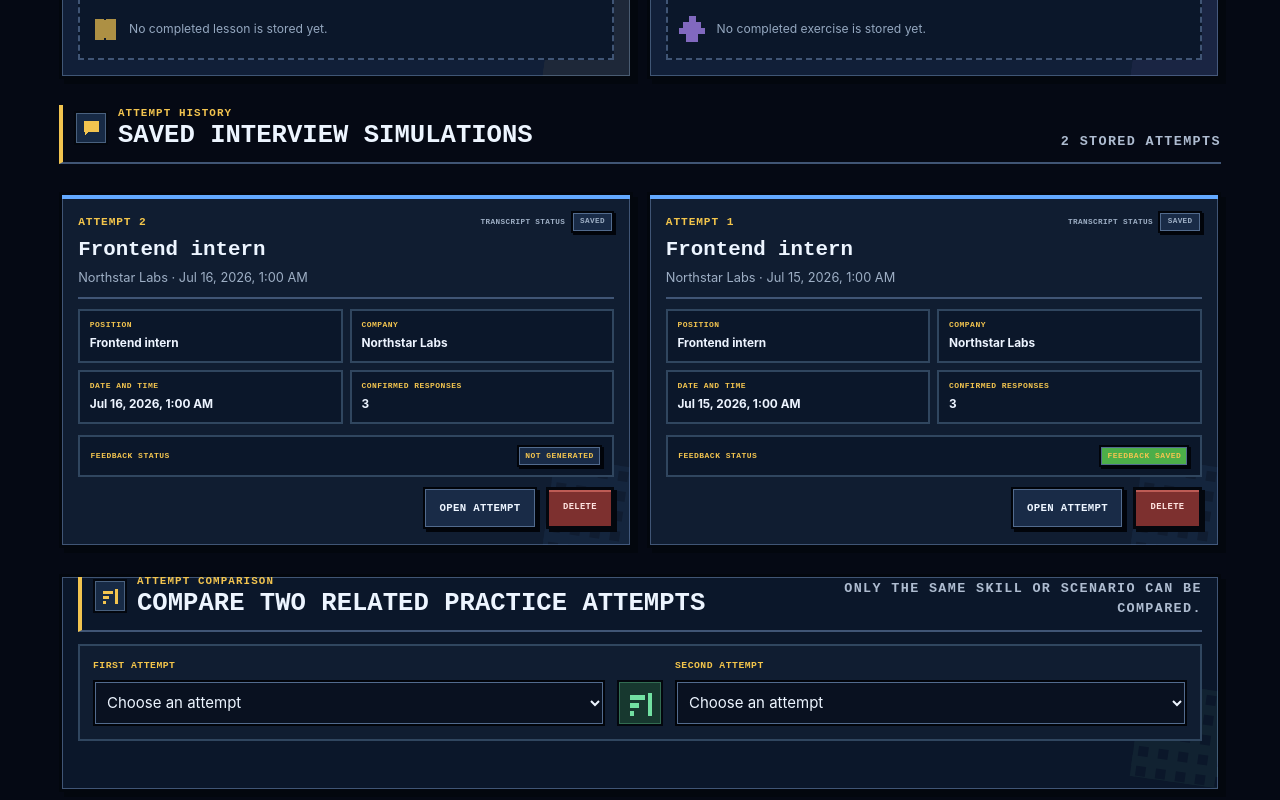
Test case: ProgressDashboard › shows an incompatible state instead of comparing an unevaluated attempt
(page scrolled)
Expected: the text "2 stored attempts" is shown, [1061, 132, 1221, 152]
Select "Frontend intern · Jul 15, 2026, 1:00 AM" in the dropdown labelled "First attempt": [349, 703] box [93, 680, 605, 726]
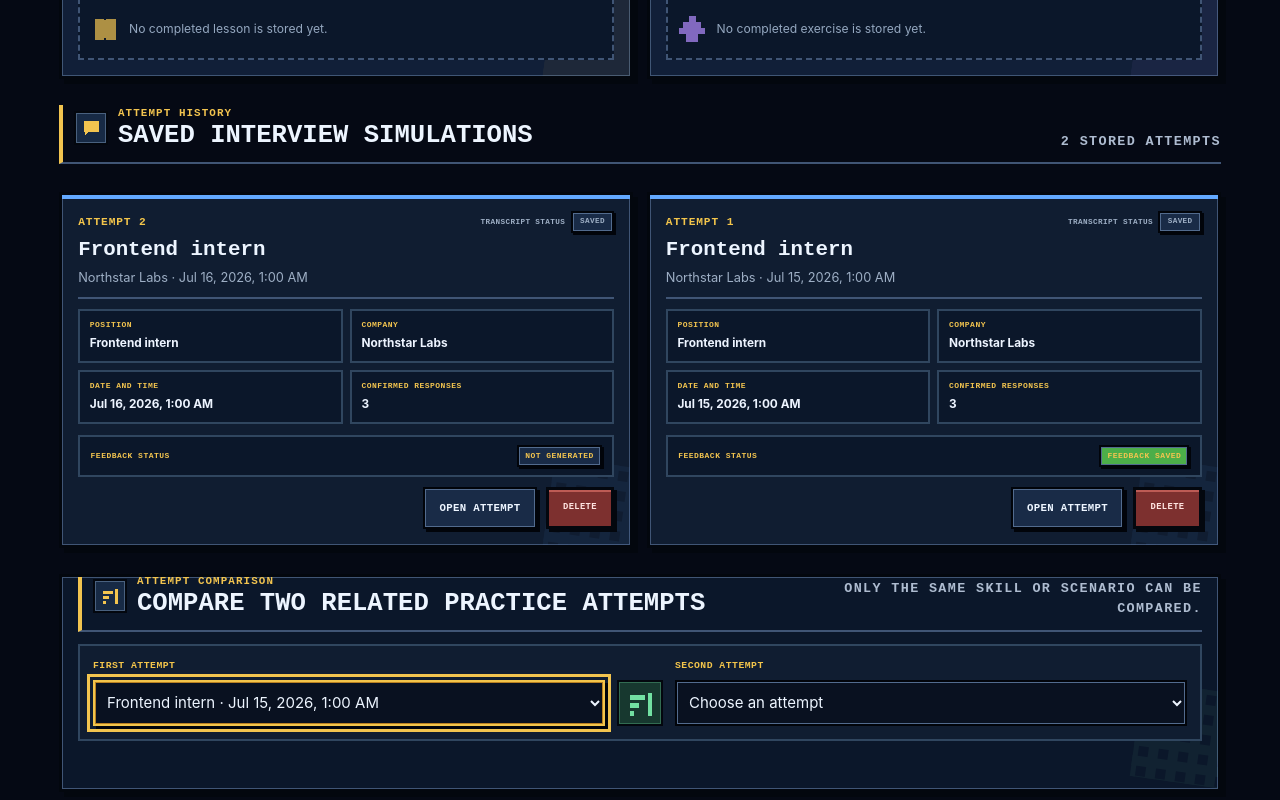
Select "Frontend intern · Jul 16, 2026, 1:00 AM" in the dropdown labelled "Second attempt": [931, 703] box [675, 680, 1187, 726]
(page scrolled)
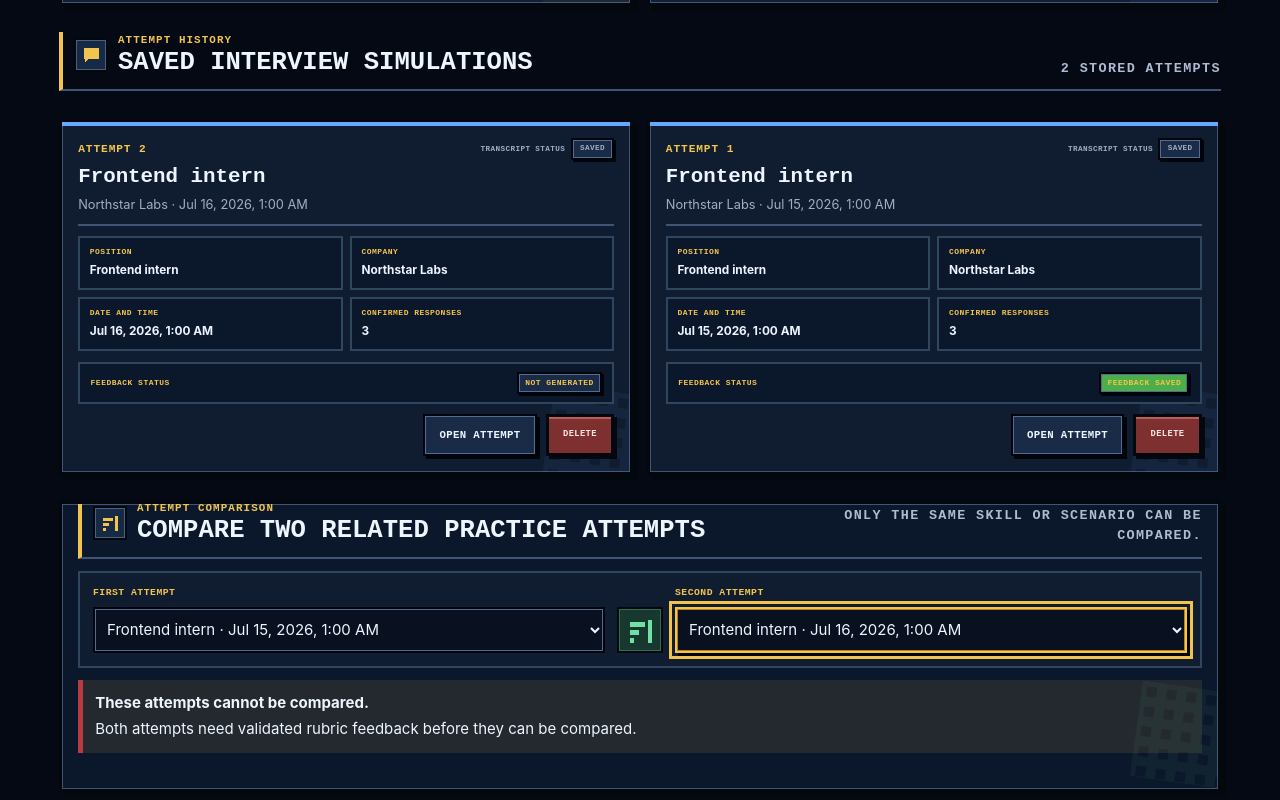
Now the message shows "Both attempts need validated rubric feedback", box [95, 719, 637, 738]
